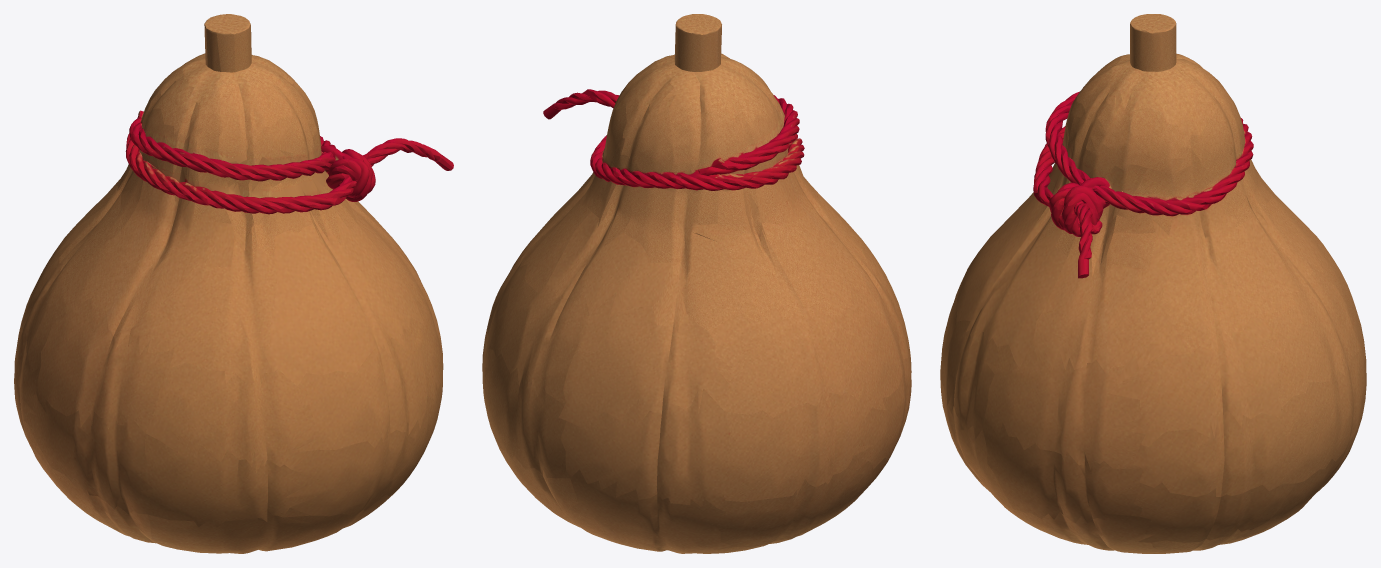
Rendered from TOOL_WATER_GOURD_001.glb.
3 renders of one model, left to right at view 1: azimuth 30°, elevation 25°; view 2: azimuth 150°, elevation 25°; view 3: azimuth 270°, elevation 25°, orthographic.
Size of the model in its own units: 1.51 by 1.9 by 1.5.
1 material, 1 textured.
